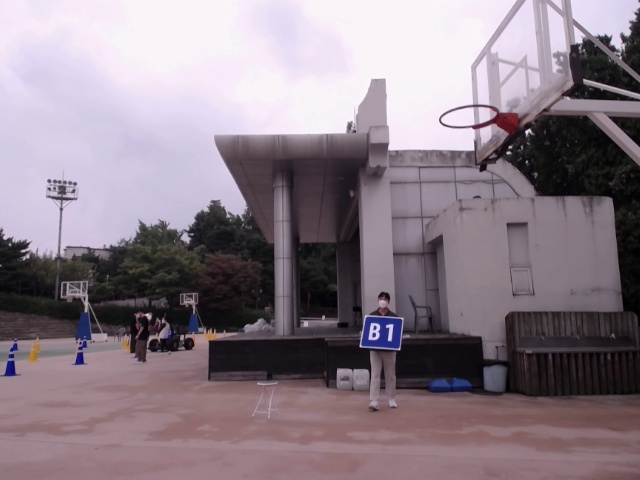delivery_b1: (360, 316, 404, 350)
